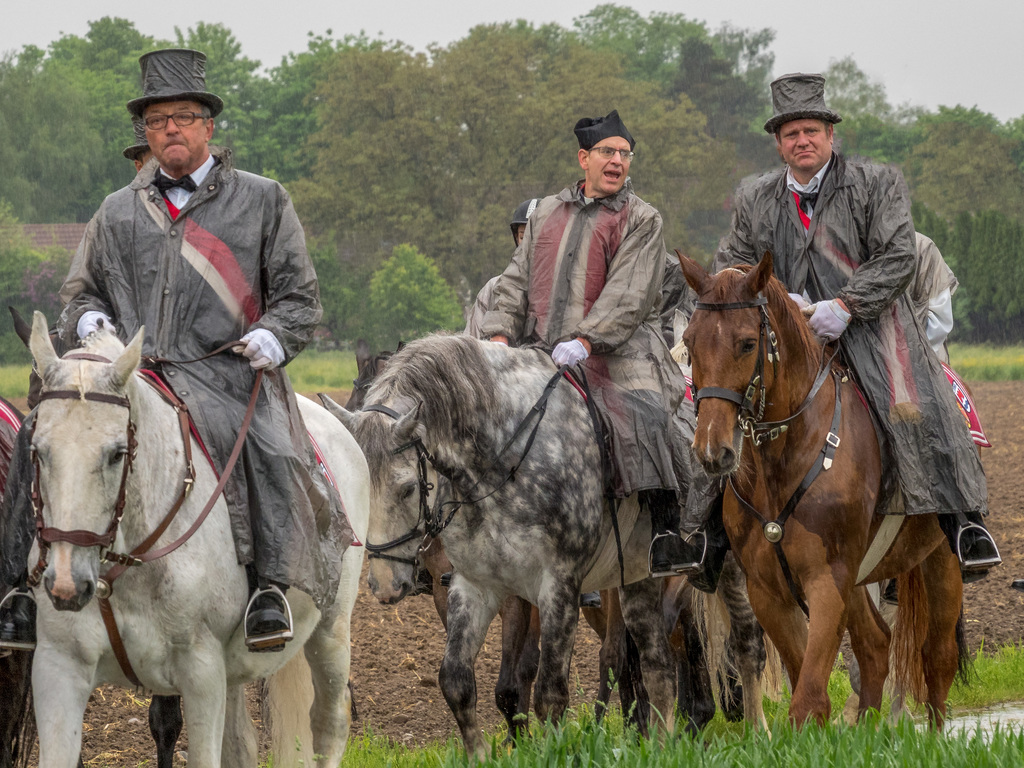Person: (0, 44, 357, 658), (679, 61, 1003, 597), (474, 105, 700, 584), (457, 195, 549, 344), (904, 229, 962, 362), (653, 249, 698, 351), (122, 115, 155, 169)
